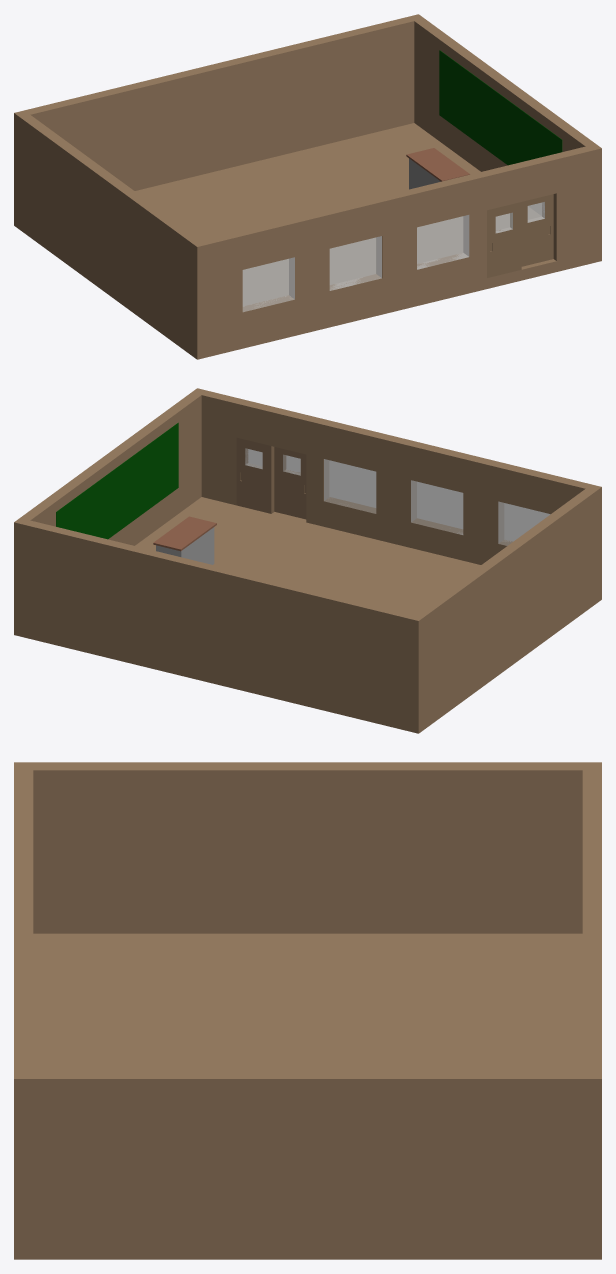
Rendered from school.fbx.
The picture shows the model from 3 angles, top to bottom: view 1: azimuth 30°, elevation 25°; view 2: azimuth 150°, elevation 25°; view 3: azimuth 270°, elevation 25°; orthographic projection. The views are drawn at different scales.
Visible parts, largest first — view 1: 壁左, 壁右, 床, 壁後ろ, 壁前, 黒板, 壁右窓3, 壁右窓, 壁右窓2, 壁右ドア1-2, 壁右ドア1, 教卓1 (+1 smaller); view 2: 壁左, 壁右, 床, 壁後ろ, 壁前, 黒板, 壁右ドア1, 壁右窓3, 壁右窓2, 壁右ドア1-2, 壁右窓, 教卓1 (+1 smaller); view 3: 壁前, 壁後ろ, 床, 壁左, 壁右.
Part boxes in pixels (x1,y1,x2,y2): 壁左: [25, 17, 414, 190]; 壁右: [202, 146, 591, 346]; 床: [14, 123, 601, 359]; 壁後ろ: [14, 110, 207, 348]; 壁前: [408, 14, 601, 252]; 黒板: [439, 50, 562, 165]; 壁右窓3: [417, 215, 469, 269]; 壁右窓: [242, 257, 294, 312]; 壁右窓2: [329, 236, 381, 290]; 壁右ドア1-2: [487, 202, 521, 277]; 壁右ドア1: [521, 194, 553, 266]; 教卓1: [406, 148, 469, 181]; 壁左: [24, 520, 413, 720]; 壁右: [201, 391, 590, 564]; 床: [14, 497, 601, 733]; 壁後ろ: [408, 484, 601, 722]; 壁前: [14, 388, 207, 626]; 黒板: [56, 422, 178, 539]; 壁右ドア1: [236, 437, 274, 513]; 壁右窓3: [324, 459, 376, 513]; 壁右窓2: [411, 480, 463, 534]; 壁右ドア1-2: [274, 447, 306, 519]; 壁右窓: [498, 501, 550, 545]; 教卓1: [153, 516, 216, 551]; 壁前: [14, 1071, 601, 1242]; 壁後ろ: [14, 762, 601, 933]; 床: [14, 933, 601, 1259]; 壁左: [582, 770, 601, 1070]; 壁右: [14, 770, 33, 1070].
Bounding box in the file's own units: 1949 × 519 × 1528.
